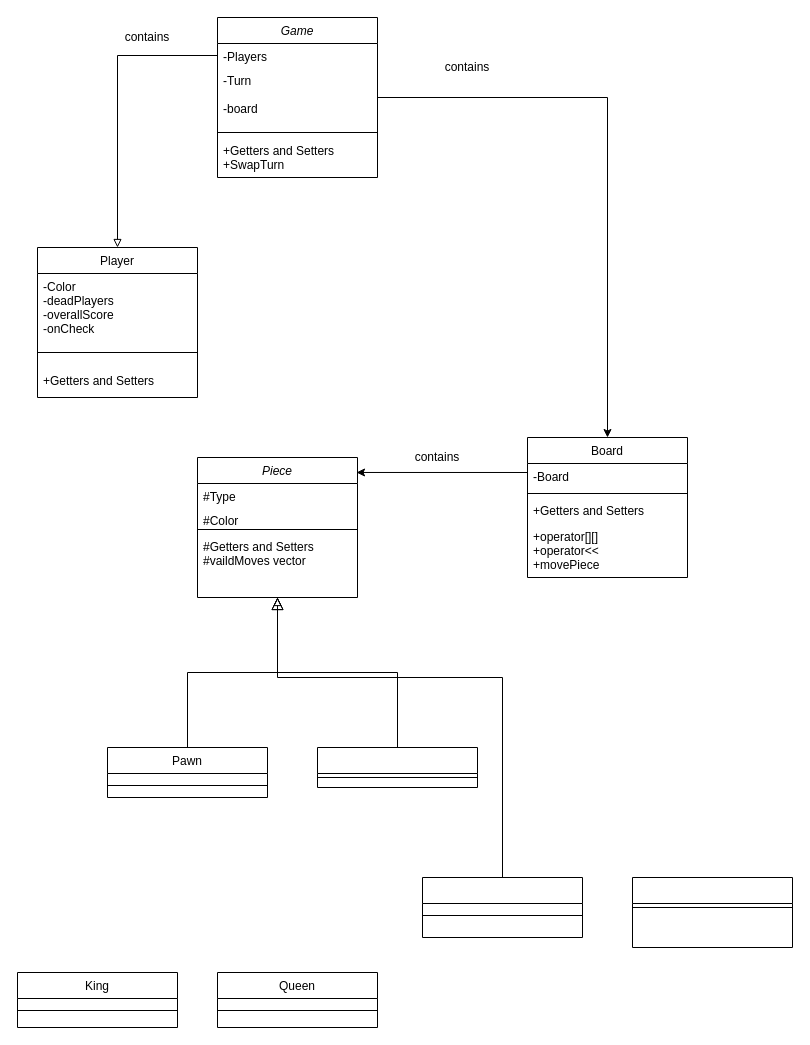
This 810x1045 diagram has some shape labels left out. The centre of each missing label's shape, as x and y in pixels:
"Bishop" belongs at pixel 502 907.
"Knight" belongs at pixel 397 767.
"Rook" belongs at pixel 712 912.
